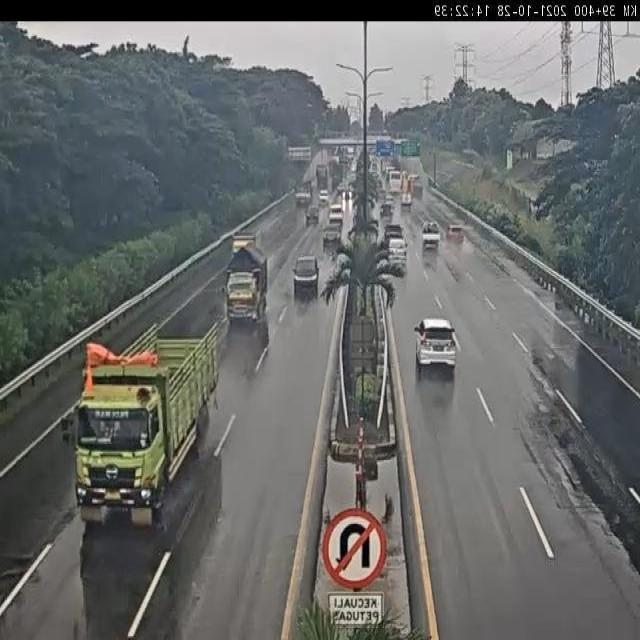Car: (412, 307, 461, 383), (292, 256, 320, 299), (387, 236, 407, 270), (422, 221, 441, 249), (323, 223, 342, 250), (384, 223, 404, 246), (446, 223, 465, 243), (379, 196, 394, 219), (329, 204, 343, 226), (306, 204, 320, 224), (319, 189, 329, 204)
Truck: (65, 322, 222, 528), (218, 233, 272, 327)
